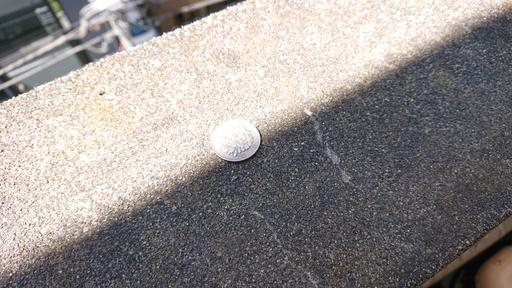100yen: (212, 120, 260, 161)
